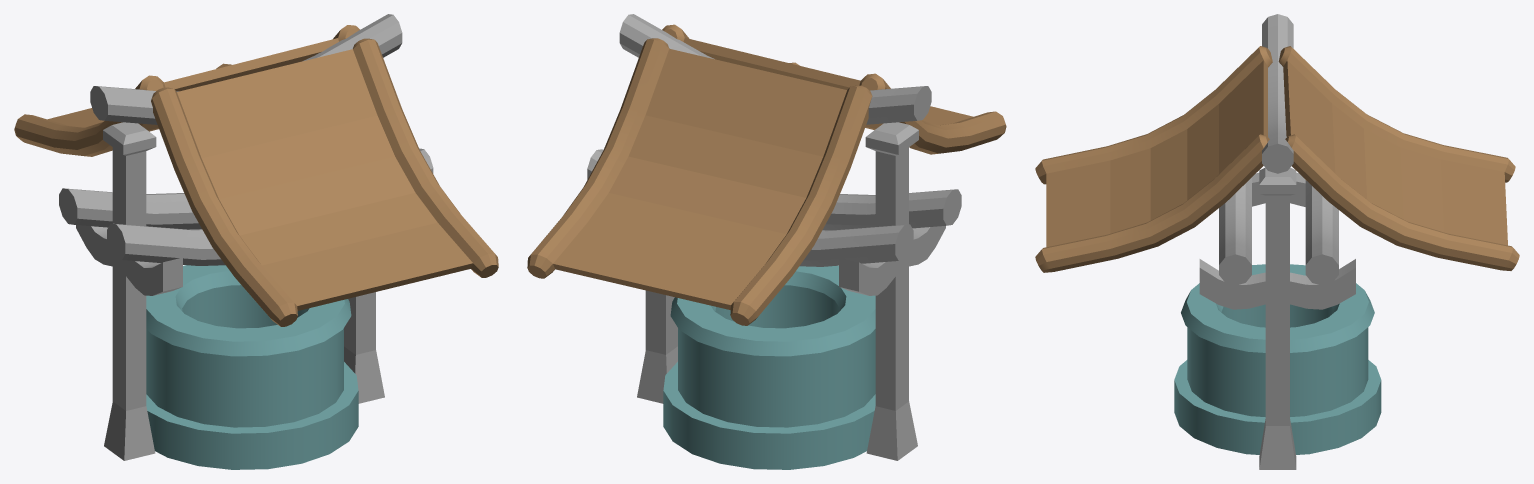
File: Well.fbx
3 views of the same model, side by side, from view 1: azimuth 30°, elevation 25°; view 2: azimuth 150°, elevation 25°; view 3: azimuth 270°, elevation 25° (orthographic). The views are drawn at different scales.
Parts seen in each view (by area): view 1: Well1; view 2: Well1; view 3: Well1.
Part boxes in pixels (box(x1,y1,x2,y2)): Well1: box(14, 14, 498, 469); Well1: box(527, 14, 1006, 469); Well1: box(1035, 14, 1519, 469).
Size of the model in its own units: 53.55 by 61.58 by 80.84.
